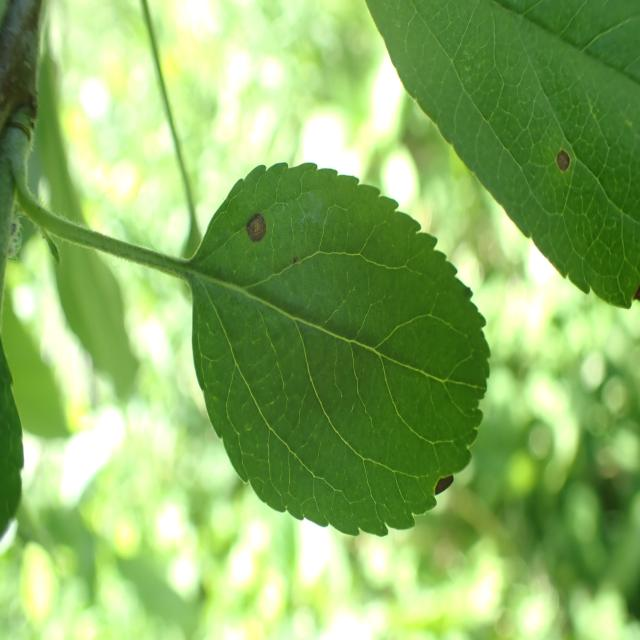Black Rot: (538, 125, 575, 197), (237, 199, 276, 264)
